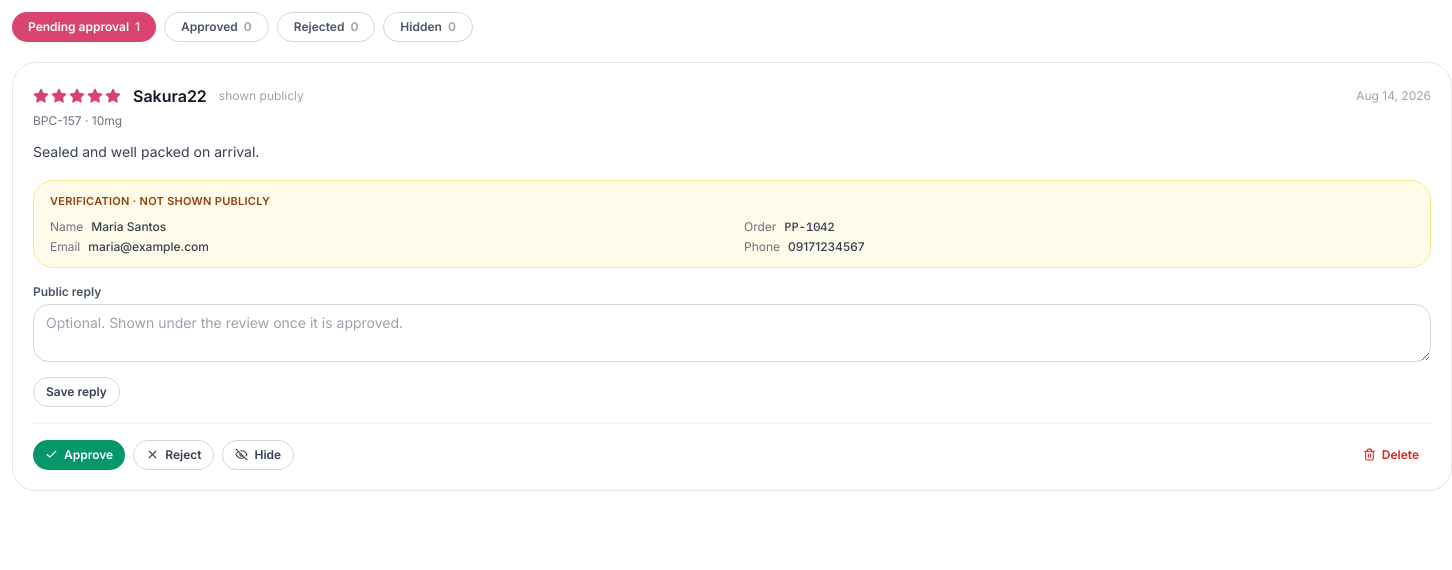
Test: ReviewsAdminManager — actions › surfaces a failed action instead of looking like it worked
The image size is (1452, 570).
Click the button "Approve" at (79, 455), box top-left (33, 440), bottom-right (125, 470)
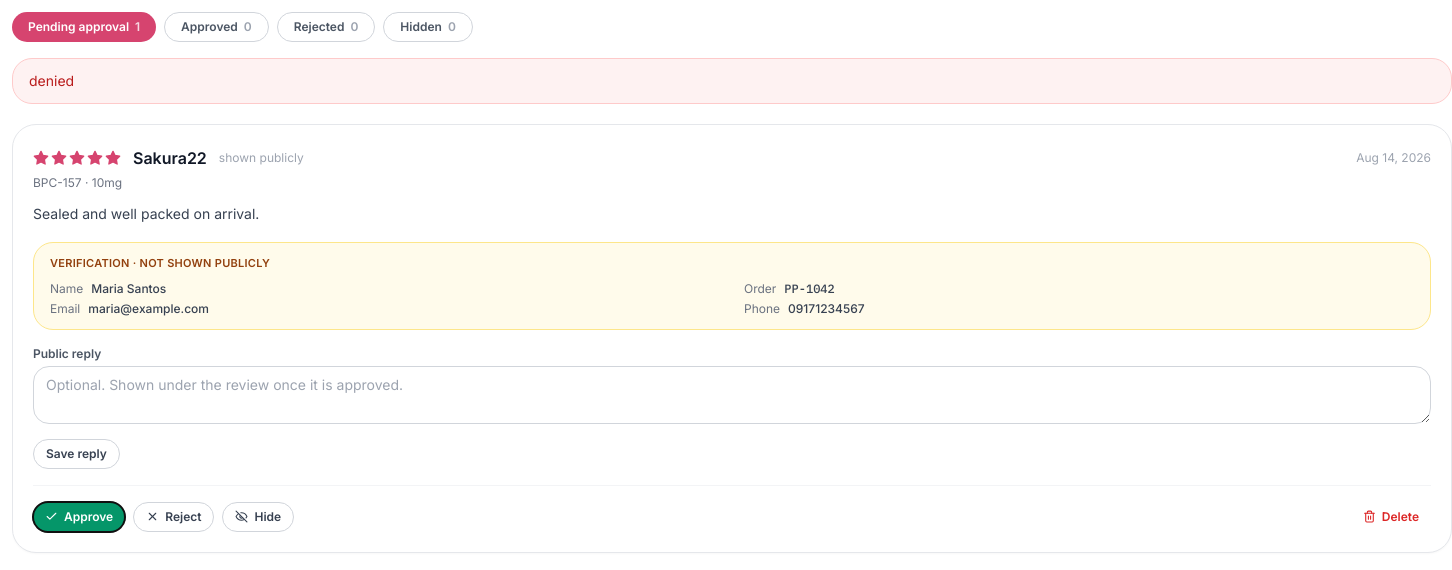
Expected: the message "denied" is shown, top-left (12, 58), bottom-right (1451, 104)
